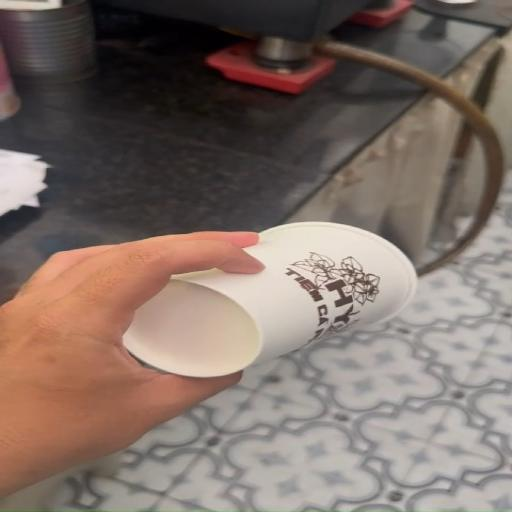Ly_giay: (124, 221, 417, 377)
